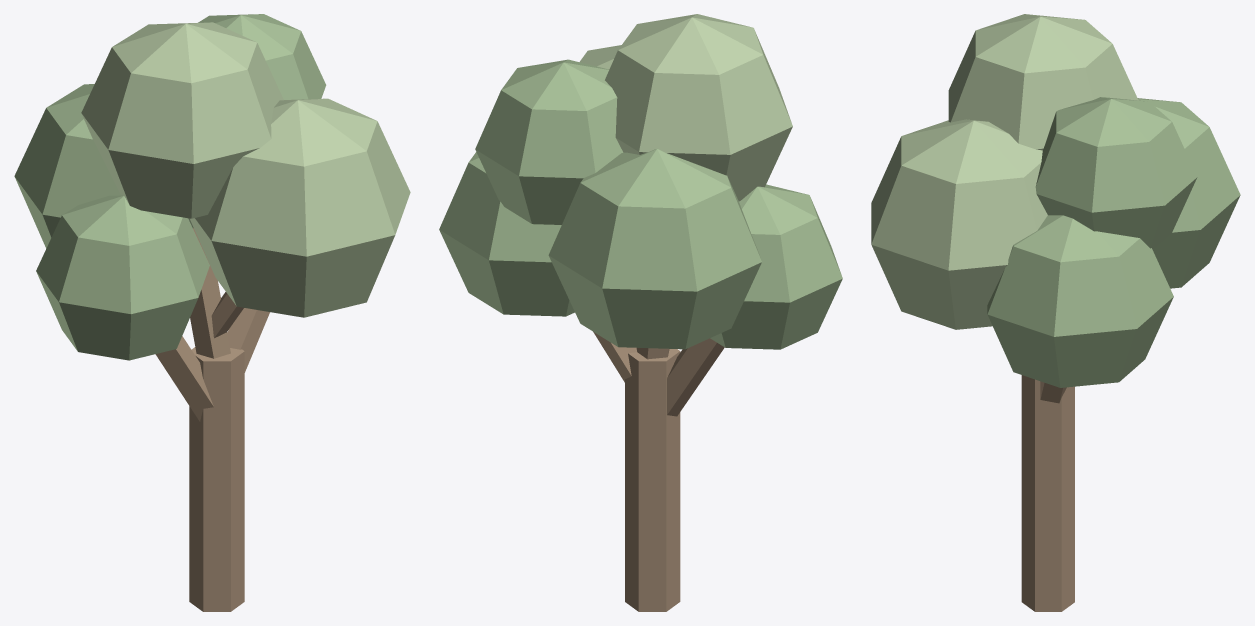
The model's file is tree.glb.
3 renders of one model, left to right at view 1: azimuth 30°, elevation 25°; view 2: azimuth 150°, elevation 25°; view 3: azimuth 270°, elevation 25°, orthographic. The views are drawn at different scales.
Parts seen in each view (by area): view 1: tree_leaf-light, tree_leaf, tree_bark; view 2: tree_leaf, tree_leaf-light, tree_bark; view 3: tree_leaf, tree_leaf-light, tree_bark.
Part boxes in pixels (x1=…): tree_leaf-light: x1=81, y1=22, x2=410, y2=317; tree_leaf: x1=14, y1=14, x2=326, y2=360; tree_bark: x1=155, y1=228, x2=269, y2=611; tree_leaf: x1=439, y1=59, x2=842, y2=349; tree_leaf-light: x1=579, y1=14, x2=792, y2=201; tree_bark: x1=593, y1=332, x2=724, y2=611; tree_leaf: x1=987, y1=97, x2=1240, y2=387; tree_leaf-light: x1=871, y1=14, x2=1138, y2=329; tree_bark: x1=1021, y1=375, x2=1074, y2=611.
Size of the model in its own units: 1.7 by 2.67 by 1.57.
